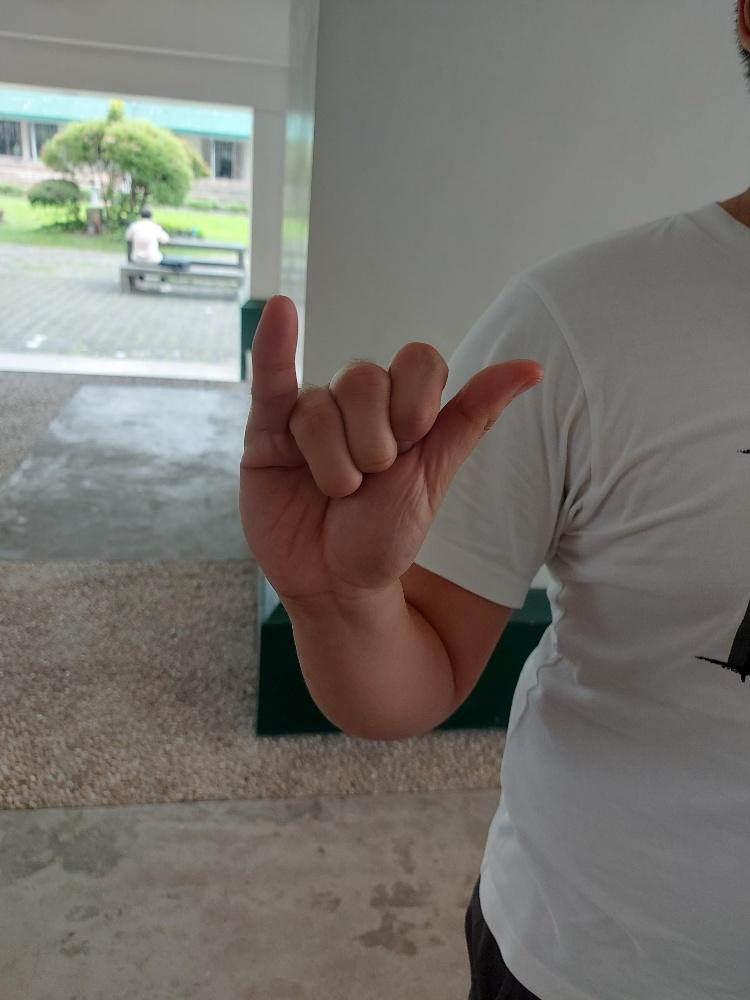y: (234, 289, 550, 602)
